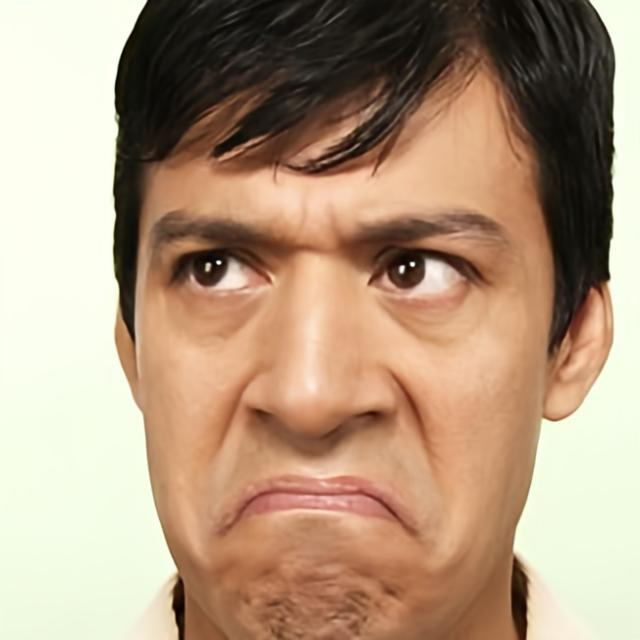disgust: (133, 4, 556, 636)
